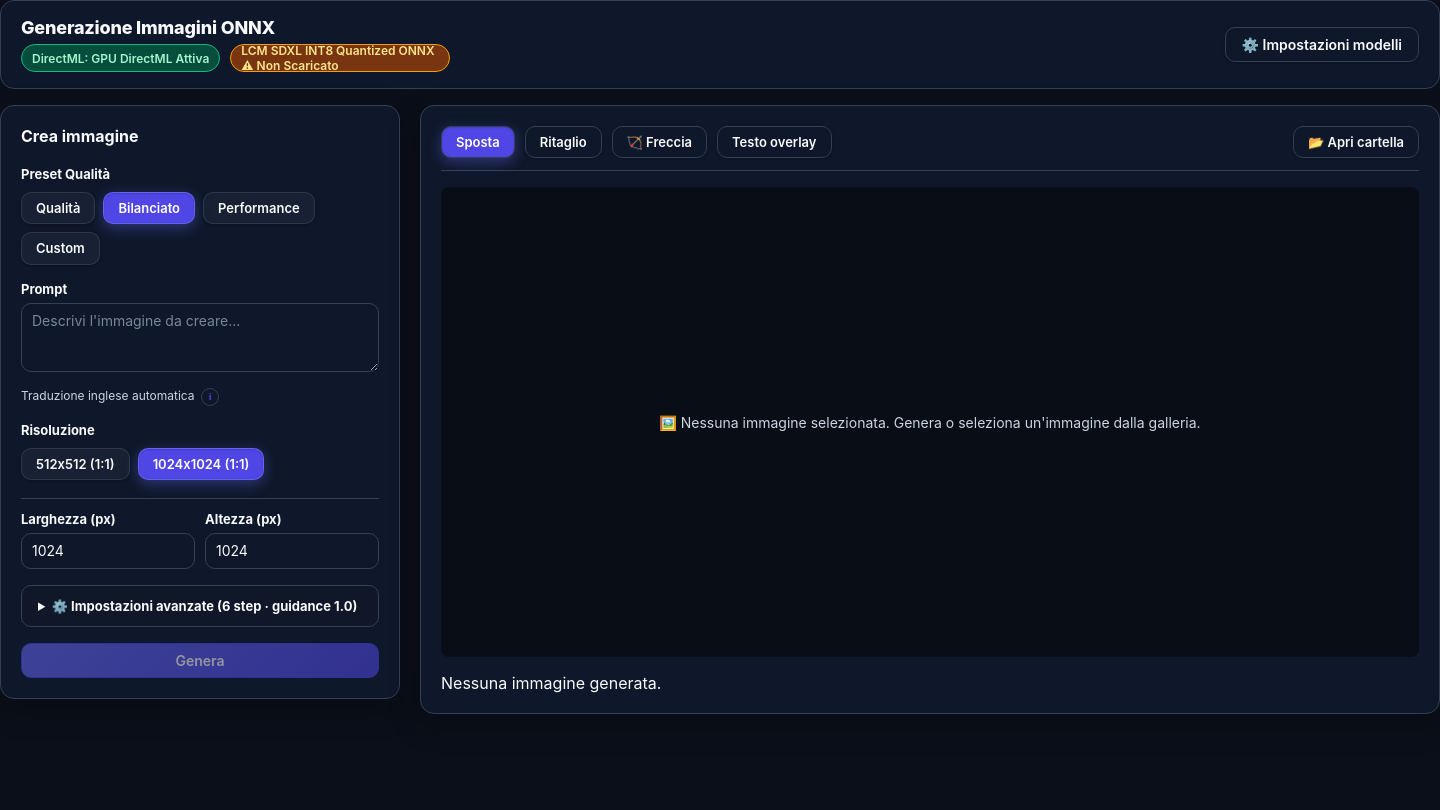
ImagesSection › hides external provider controls and shows integrated model readiness
Check: the heading "Crea immagine" is shown, box [21,126,138,146]
Click the button "⚙️ Impostazioni modelli". click: x=1322, y=45
box: [1224,27,1419,62]
(page scrolled)
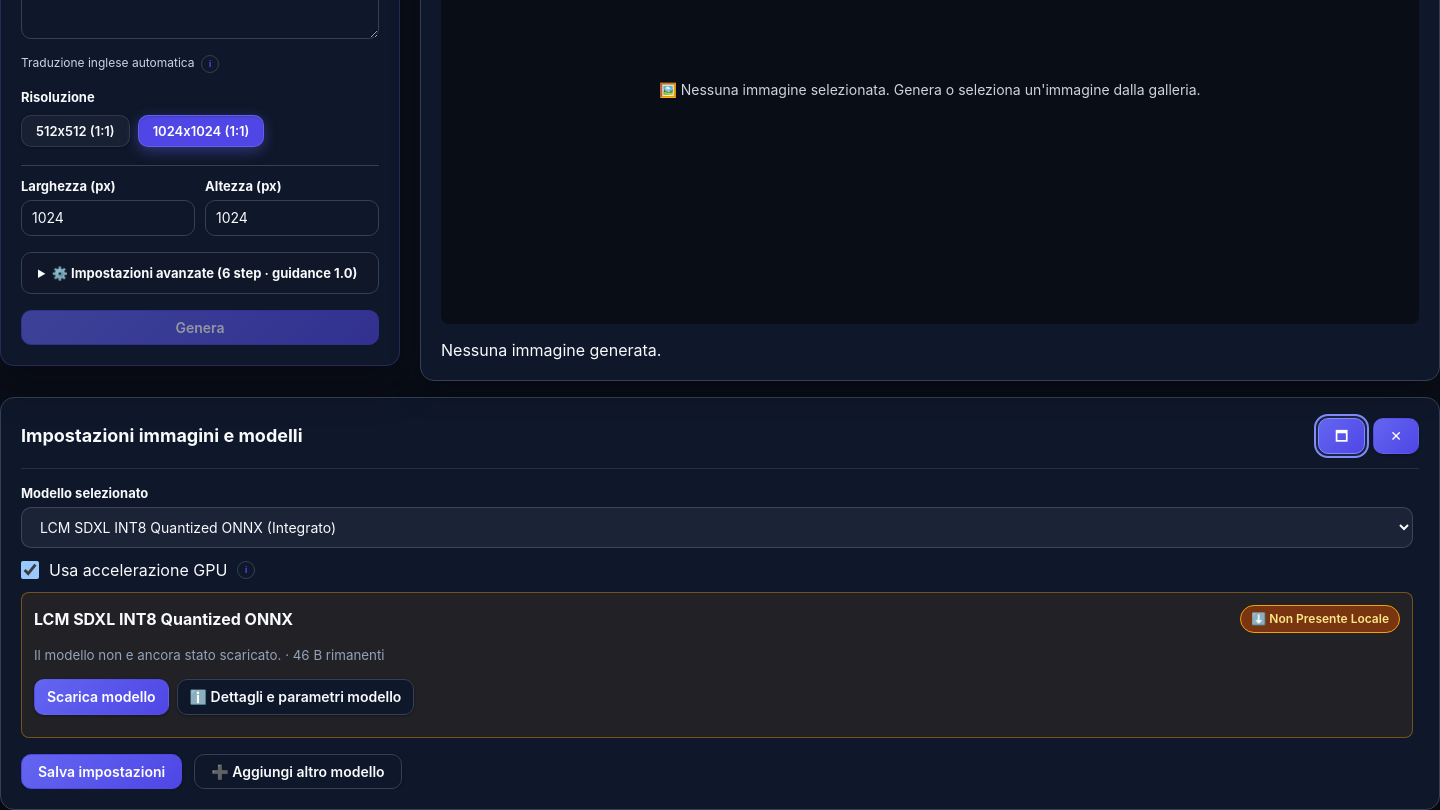
Check: the text "LCM SDXL INT8 Quantized ONNX" is shown, box [34,608,293,628]
Check: the button "Scarica modello" is shown, box [34,678,169,714]
